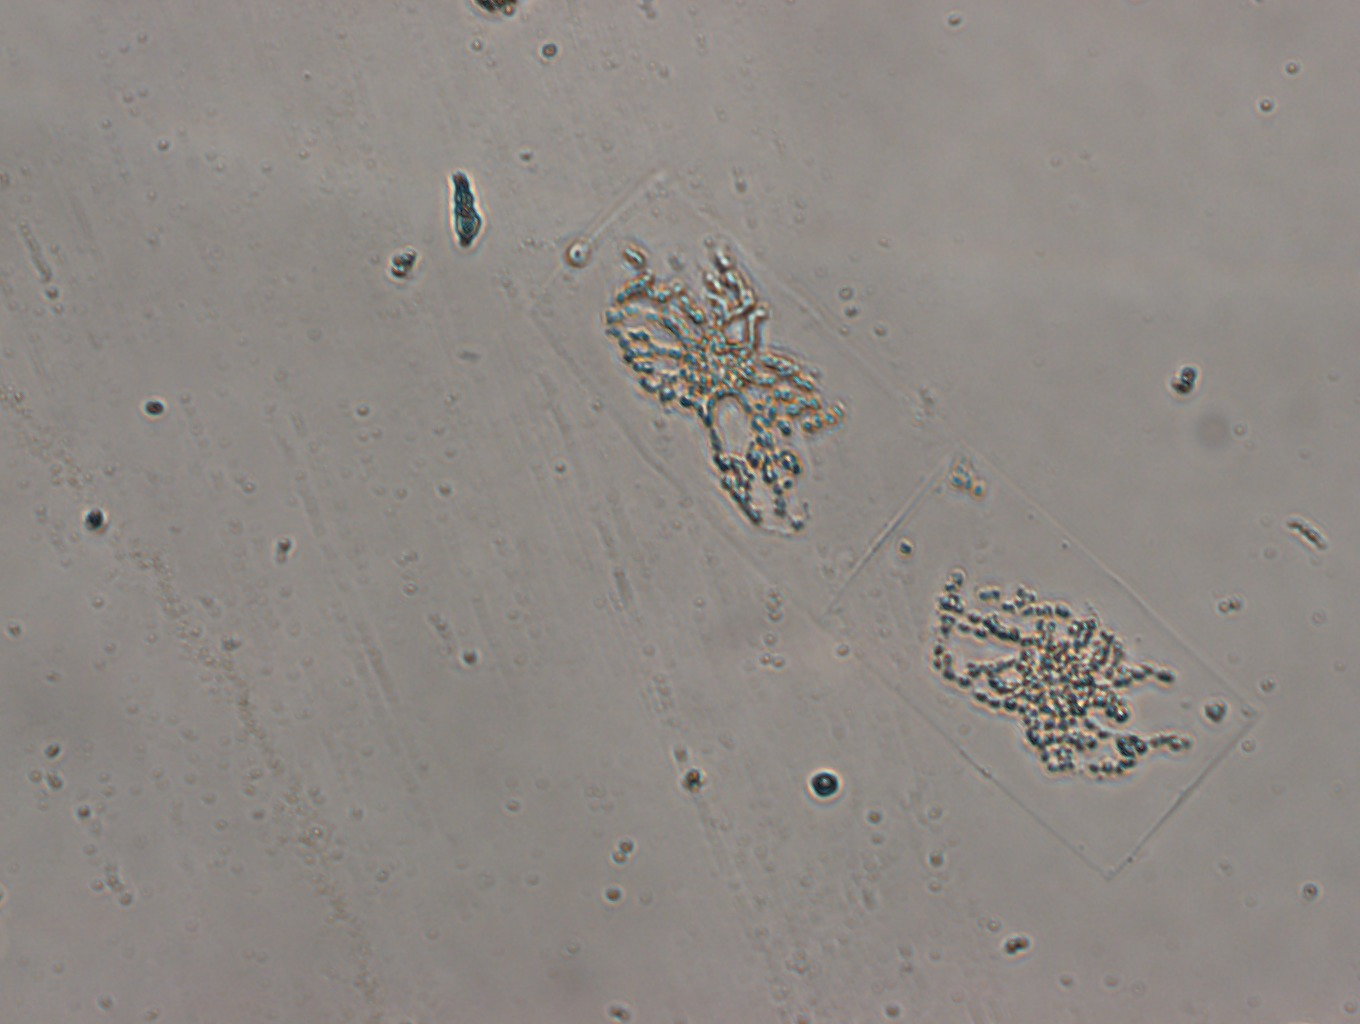helicotheca: (522, 163, 1266, 877)
